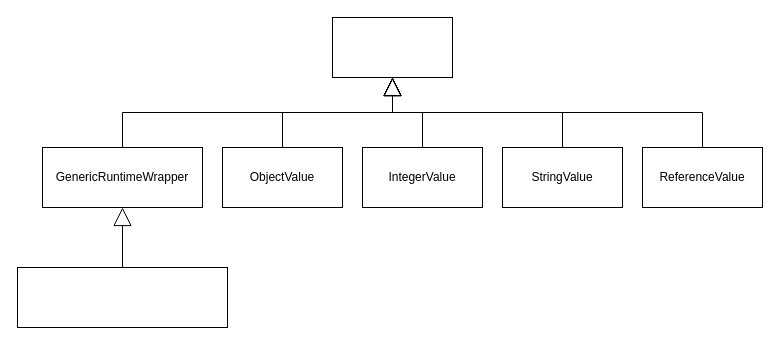
Some shapes in this 780 by 345 pixel diagram are drawn without their labels. Each missing label, with the centre of its shape:
GenericOwningRuntimeWrapper: [122,297]
IRuntimeValue: [392,47]
